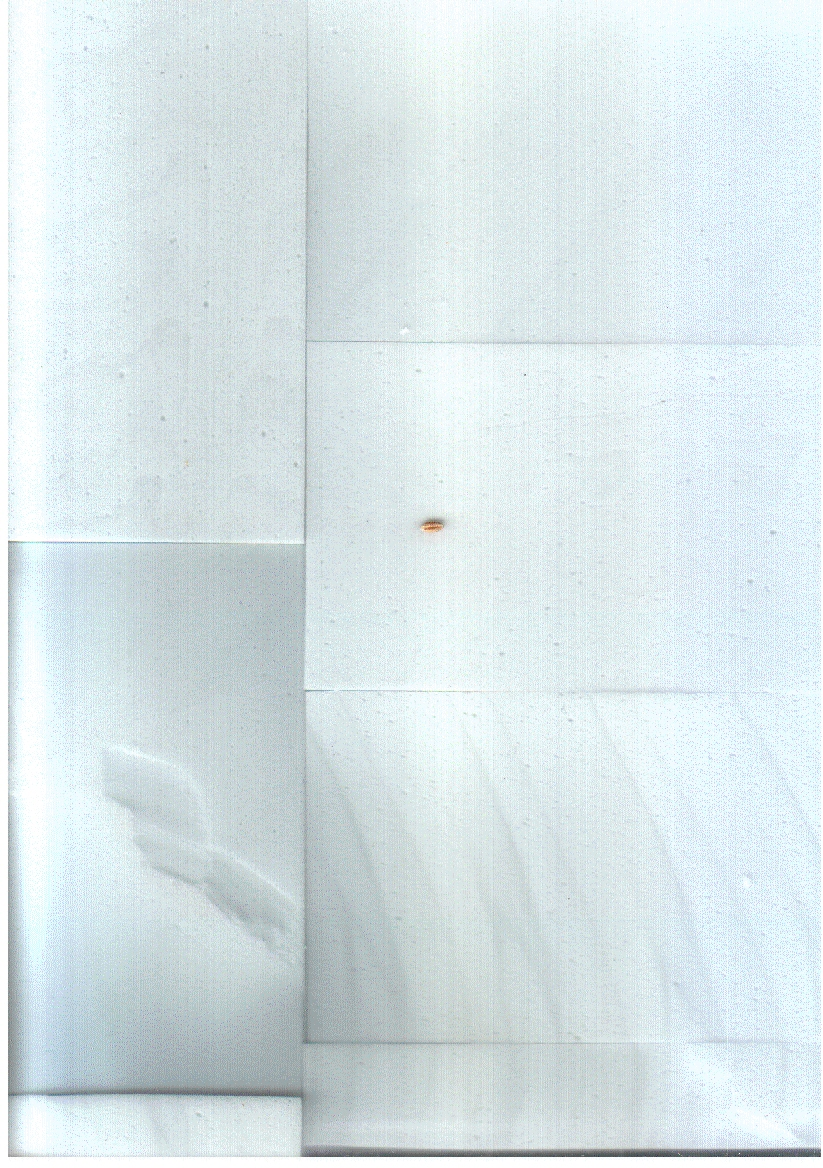grains: (412, 500, 454, 547)
